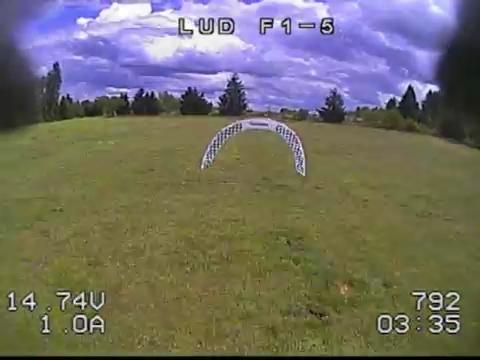gate: (202, 117, 308, 176)
